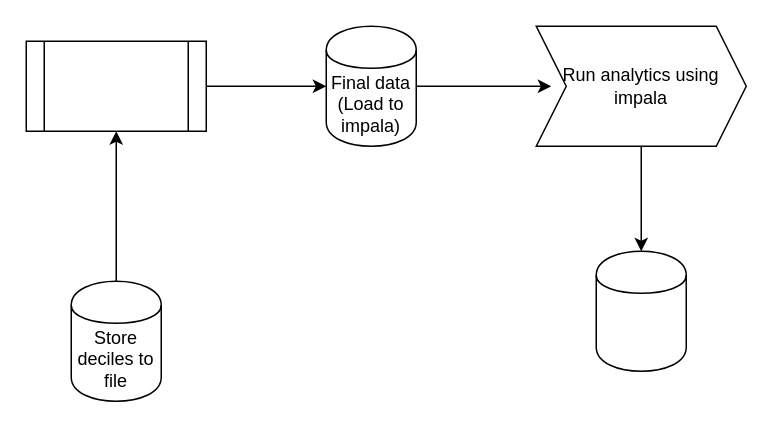
Image size: 773x428. Some labels were removed from this diagram. The centre of each missing label's shape, as x and y in pixels:
Bucket each row to decile (Map reduce Job): (x=115, y=85)
Store .csv results to local file system: (x=640, y=310)
